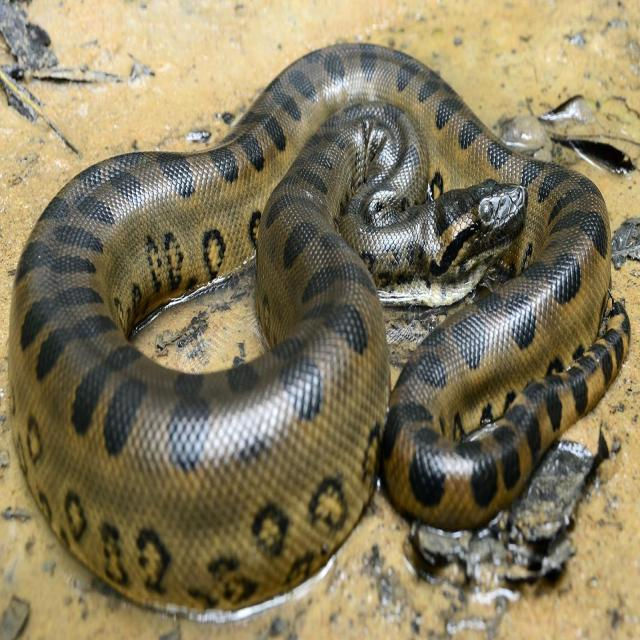Snake: (0, 26, 636, 619)
